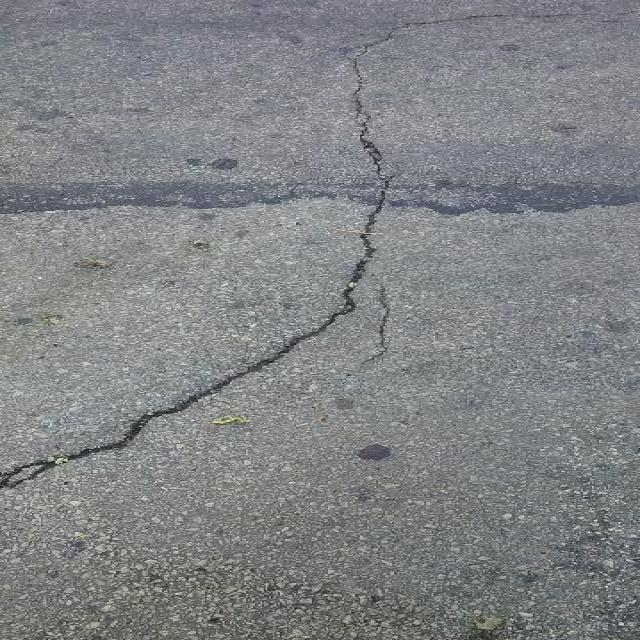Crack: (0, 1, 603, 496)
